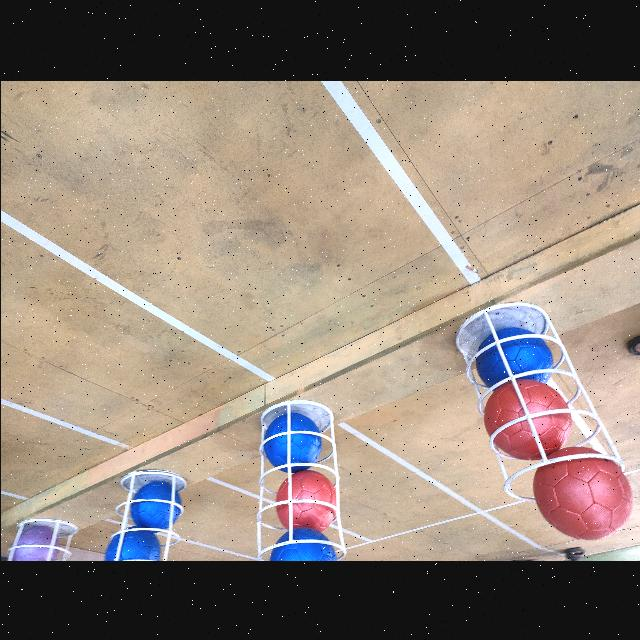B: (475, 328, 553, 378), (262, 410, 322, 470), (129, 480, 181, 532), (268, 528, 338, 560), (102, 528, 162, 560)
R: (532, 446, 632, 542), (481, 381, 569, 461), (275, 472, 335, 528)
